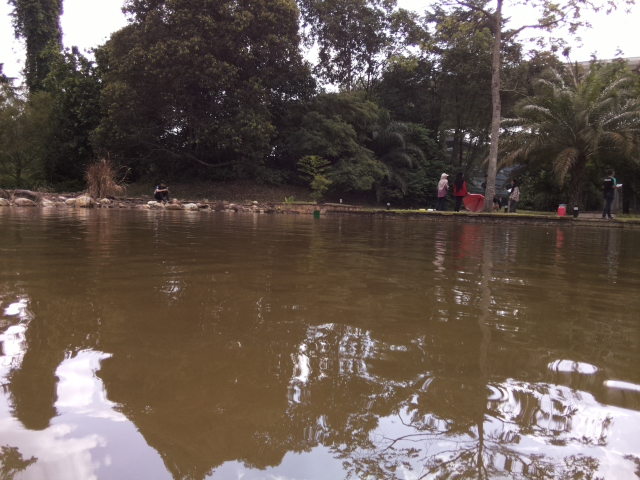obstacle: (313, 210, 321, 218)
